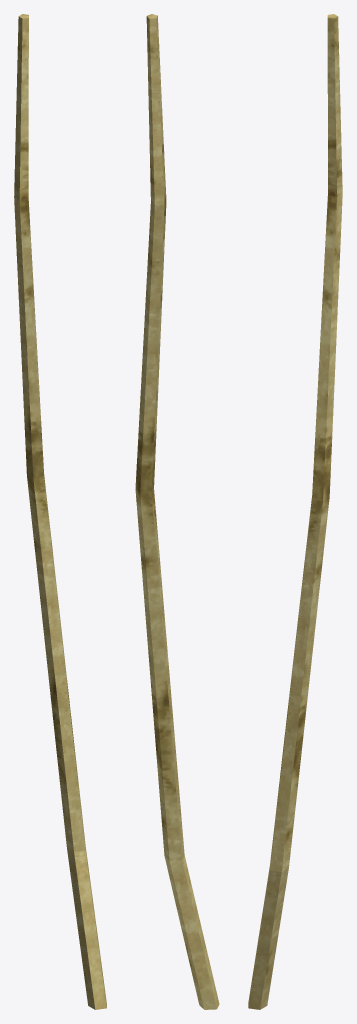
The model's file is Forest_1_Euc_5.gltf.
The picture shows the model from 3 angles, left to right: view 1: azimuth 90°, elevation 25°; view 2: azimuth 150°, elevation 25°; view 3: azimuth 270°, elevation 25°; orthographic projection. The views are drawn at different scales.
Visible parts, largest first — view 1: Forest_1_Euc_5; view 2: Forest_1_Euc_5; view 3: Forest_1_Euc_5.
Boxes of the visible parts, x1,y1,x2,y2 form: Forest_1_Euc_5: (14, 14, 106, 1009); Forest_1_Euc_5: (135, 14, 219, 1009); Forest_1_Euc_5: (248, 14, 342, 1009).
Size of the model in its own units: 1.19 by 23.26 by 1.99.
1 material, 1 textured.
